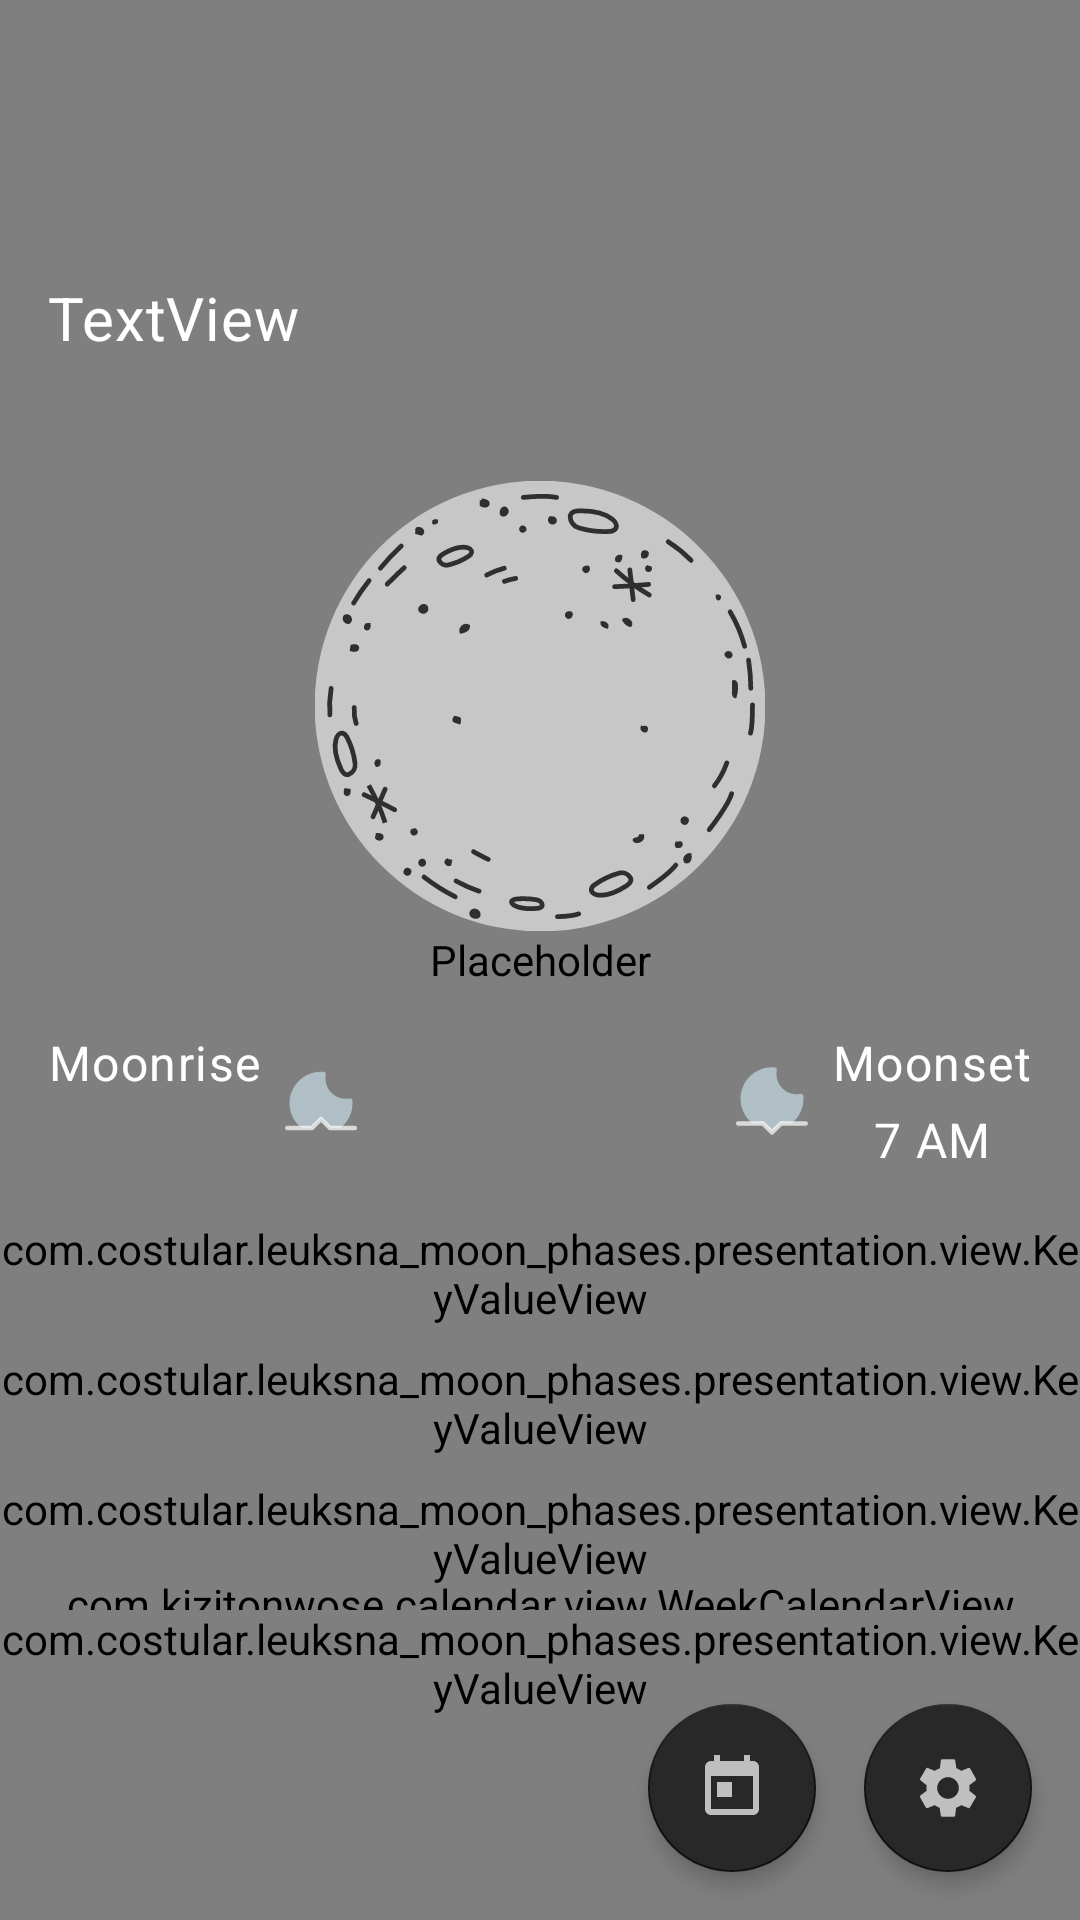

Icons on this 1080px×1920px Android screen, each with the point to tap as [x,y]:
settings: [948,1788]
